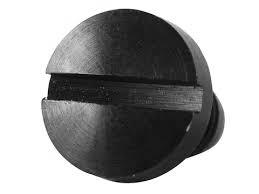slotted: (39, 9, 211, 184)
